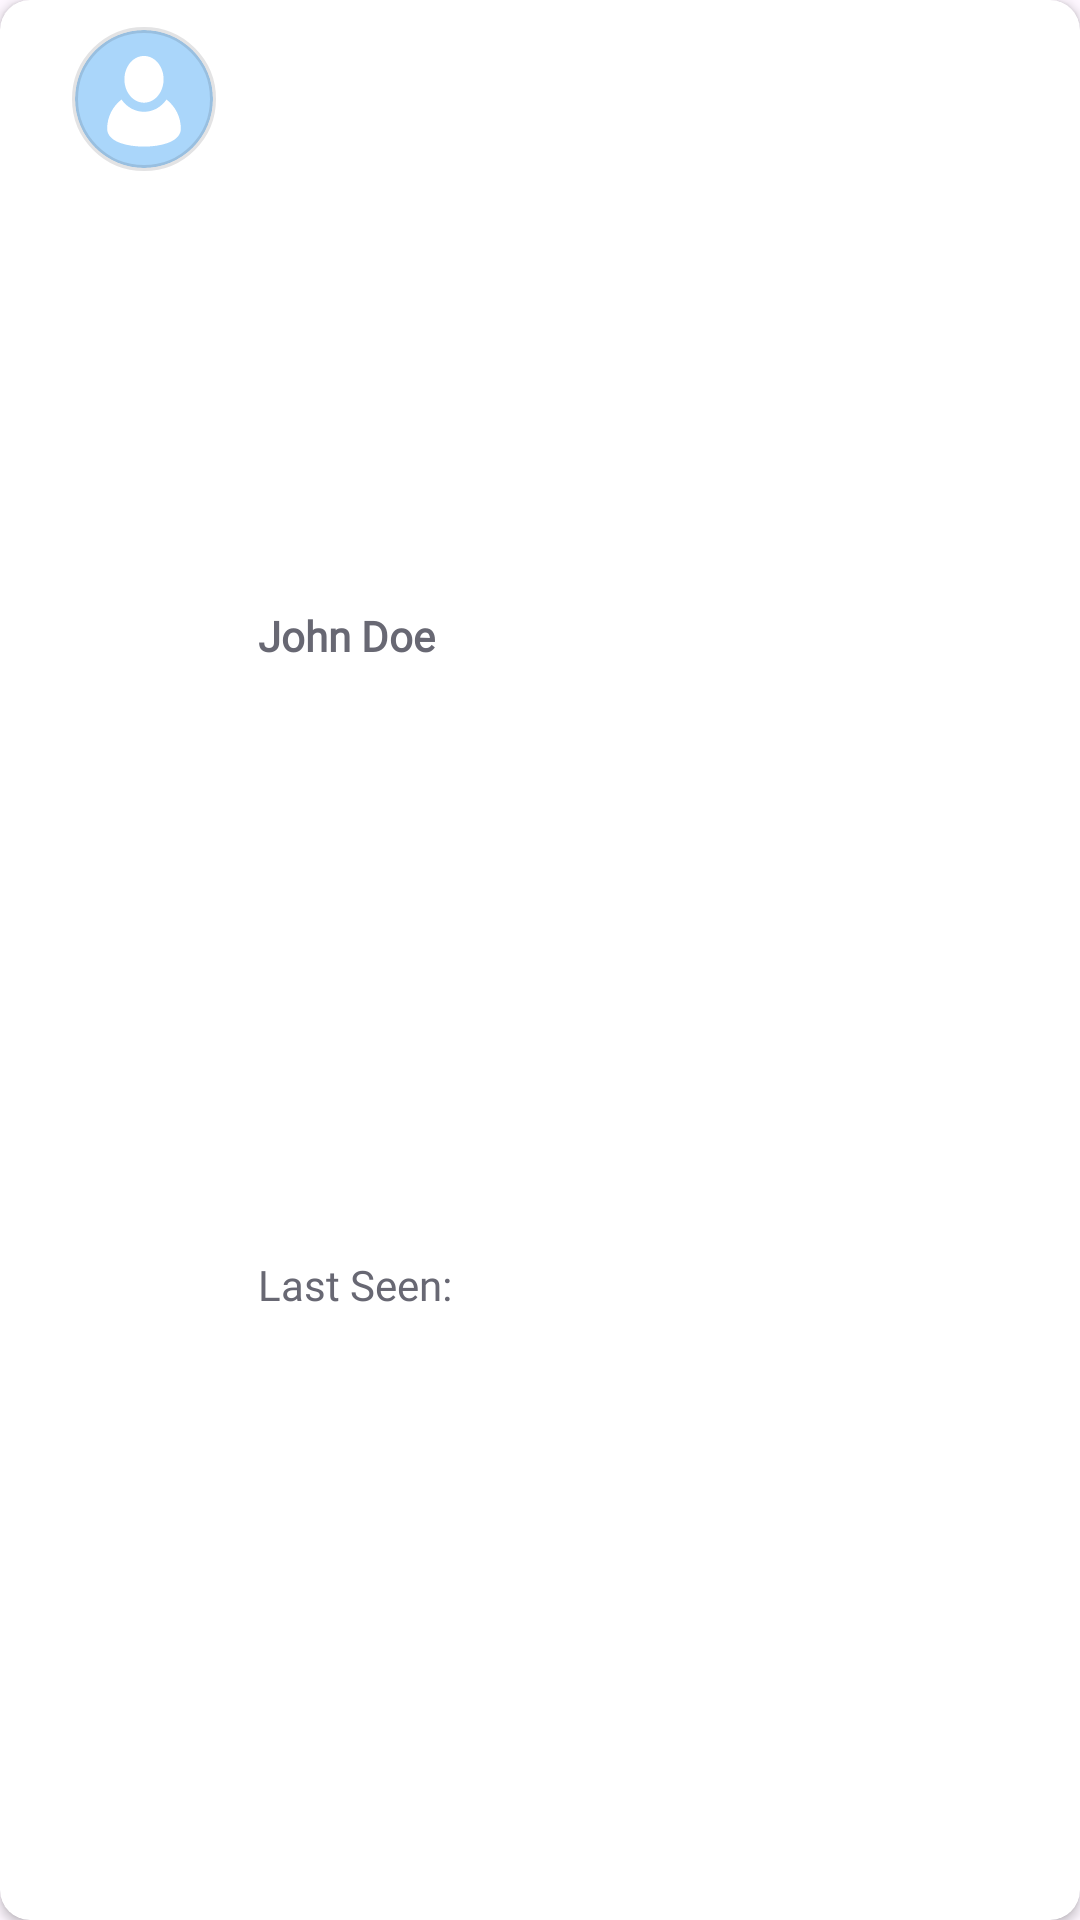

Icons on this 1080 × 1920 Android screen, each with its box as (x1, y1, x2, y2):
User Image: (72, 27, 216, 171)
